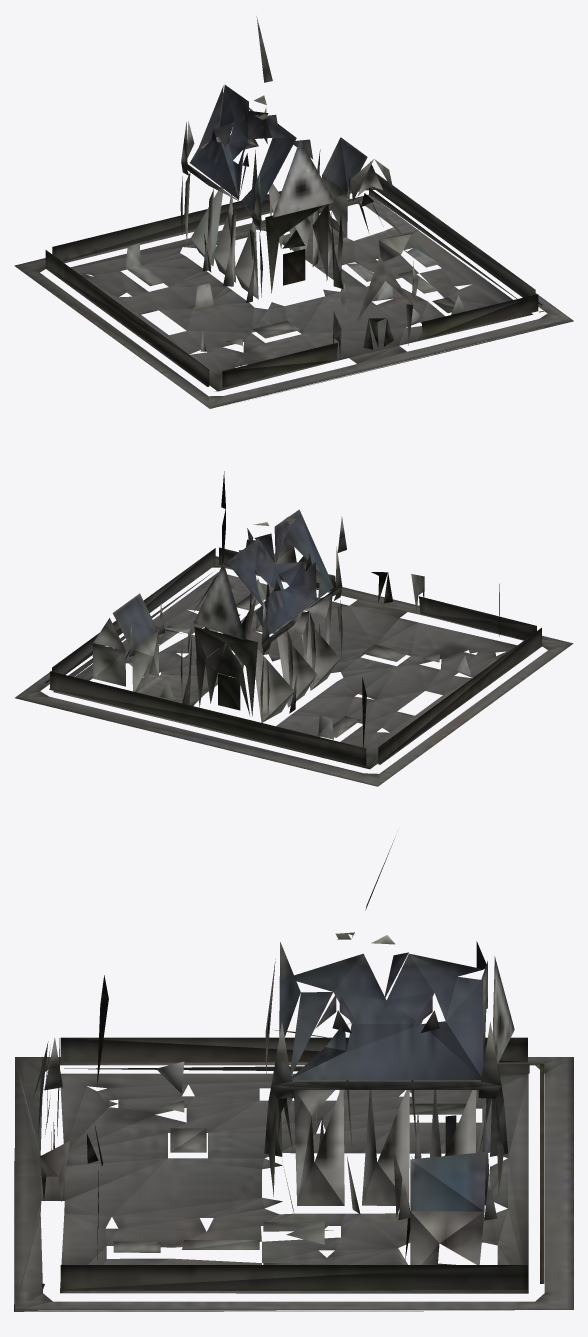
Rendered from cemetery.glb.
3 views of the same model, one above another, from view 1: azimuth 30°, elevation 25°; view 2: azimuth 150°, elevation 25°; view 3: azimuth 270°, elevation 25° (orthographic). The views are drawn at different scales.
Visible parts, largest first — view 1: tripo_node_20758216-0f9b-422c-8cd2-c626c; view 2: tripo_node_20758216-0f9b-422c-8cd2-c626c; view 3: tripo_node_20758216-0f9b-422c-8cd2-c626c.
Boxes of the visible parts, box(x1,y1,x2,y2) form: tripo_node_20758216-0f9b-422c-8cd2-c626c: box(14, 16, 573, 408); tripo_node_20758216-0f9b-422c-8cd2-c626c: box(15, 471, 573, 786); tripo_node_20758216-0f9b-422c-8cd2-c626c: box(14, 831, 573, 1311).
Size of the model in its own units: 29.59 by 20.25 by 27.61.
1 material, 1 textured.
